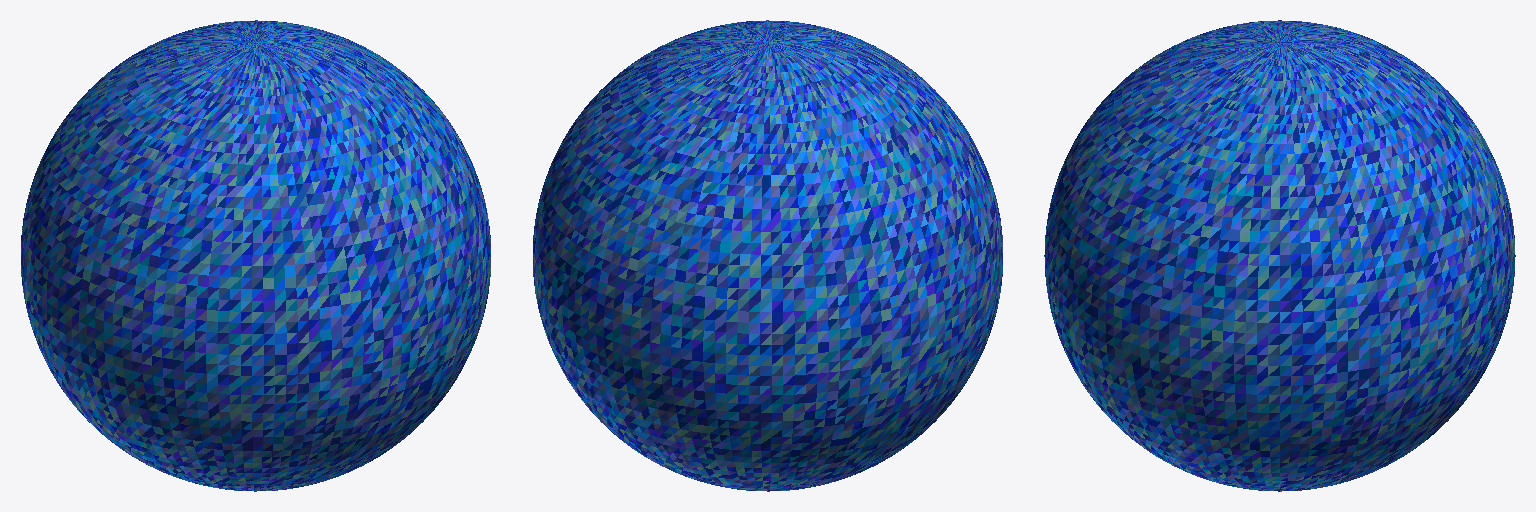
File: MiniMesh_Sphere.obj
The picture shows the model from 3 angles: view 1: azimuth 30°, elevation 25°; view 2: azimuth 150°, elevation 25°; view 3: azimuth 270°, elevation 25°; orthographic projection.
Visible parts, largest first — view 1: MiniMesh_Sphere; view 2: MiniMesh_Sphere; view 3: MiniMesh_Sphere.
Part boxes in pixels (bbox=[...]): MiniMesh_Sphere: bbox=[21, 20, 490, 491]; MiniMesh_Sphere: bbox=[533, 20, 1002, 491]; MiniMesh_Sphere: bbox=[1044, 20, 1515, 491].
Size of the model in its own units: 1 by 1 by 1.